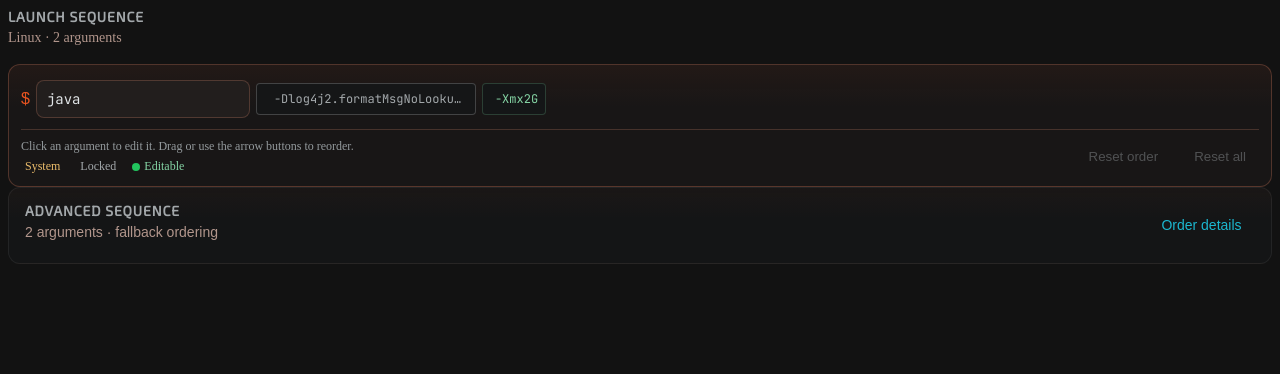
Scenario: StartArgsTemplateEditor › keeps the advanced sequence collapsed by default and expands on demand
The image size is (1280, 374).
Click the button with test id "start-args-advanced-panel-toggle" at (102, 211), box [25,202,1255,249]
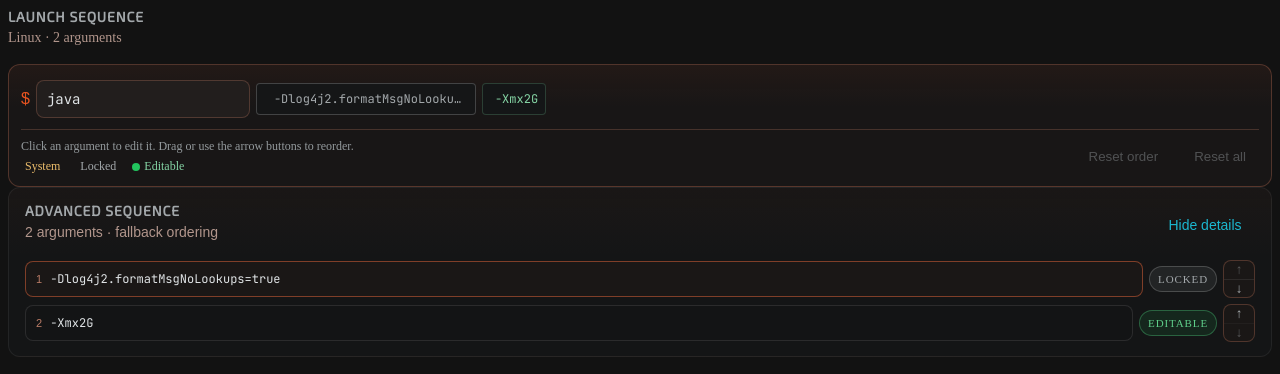
Now the button with test id "start-args-advanced-panel-toggle" is expanded, box [25,202,1255,249]
Now the number of list items with class "template-editor__sequence-row" is 2, box [25,260,1255,298]; [25,304,1255,342]
